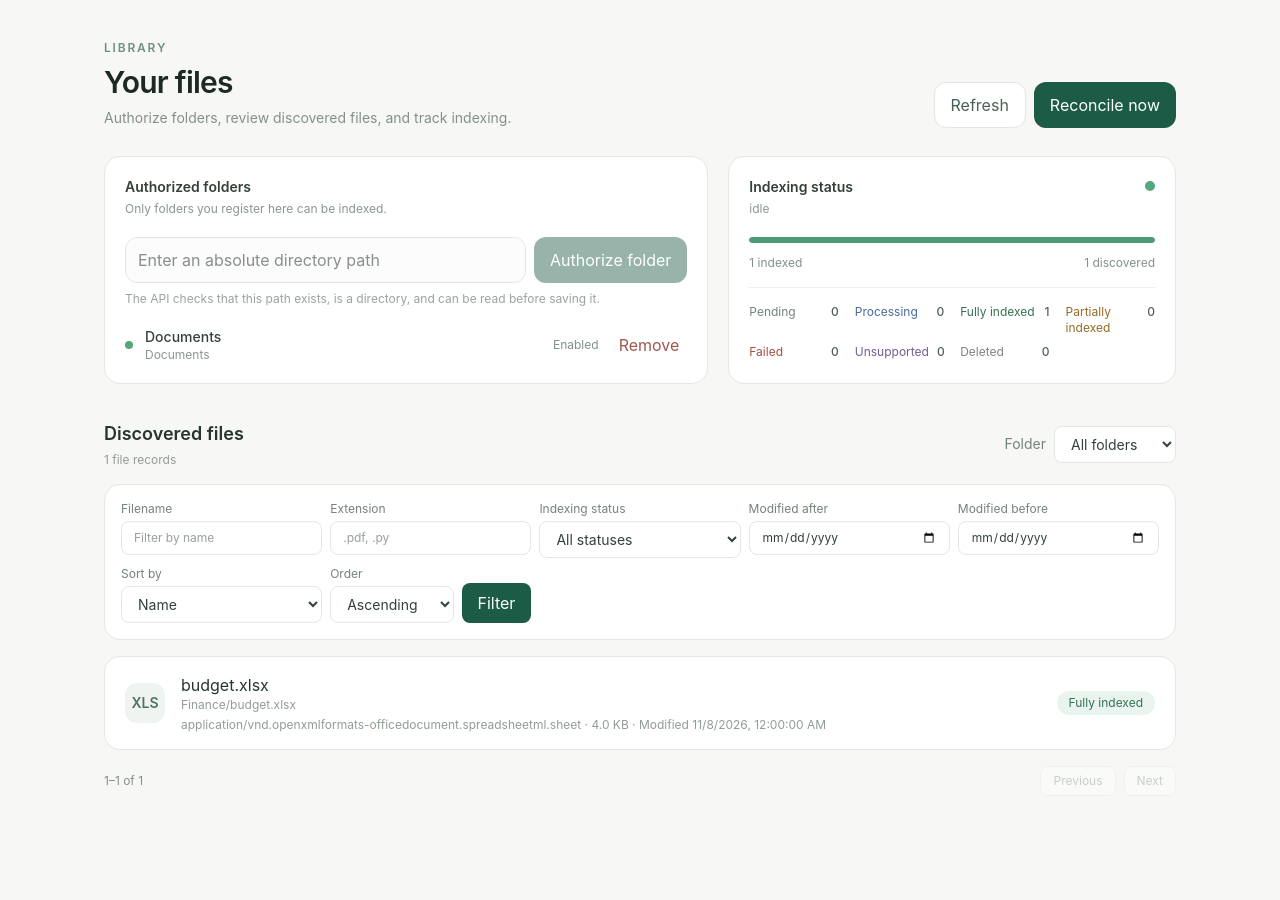
it: FilesPage › filters through the server and opens details by file ID
Expected: the button "budget.xlsx" is shown, 181,673 -> 269,697
Type "budget" into the field labelled "Filename".
click(222, 538); type("budget")  # box 121,521 -> 322,555
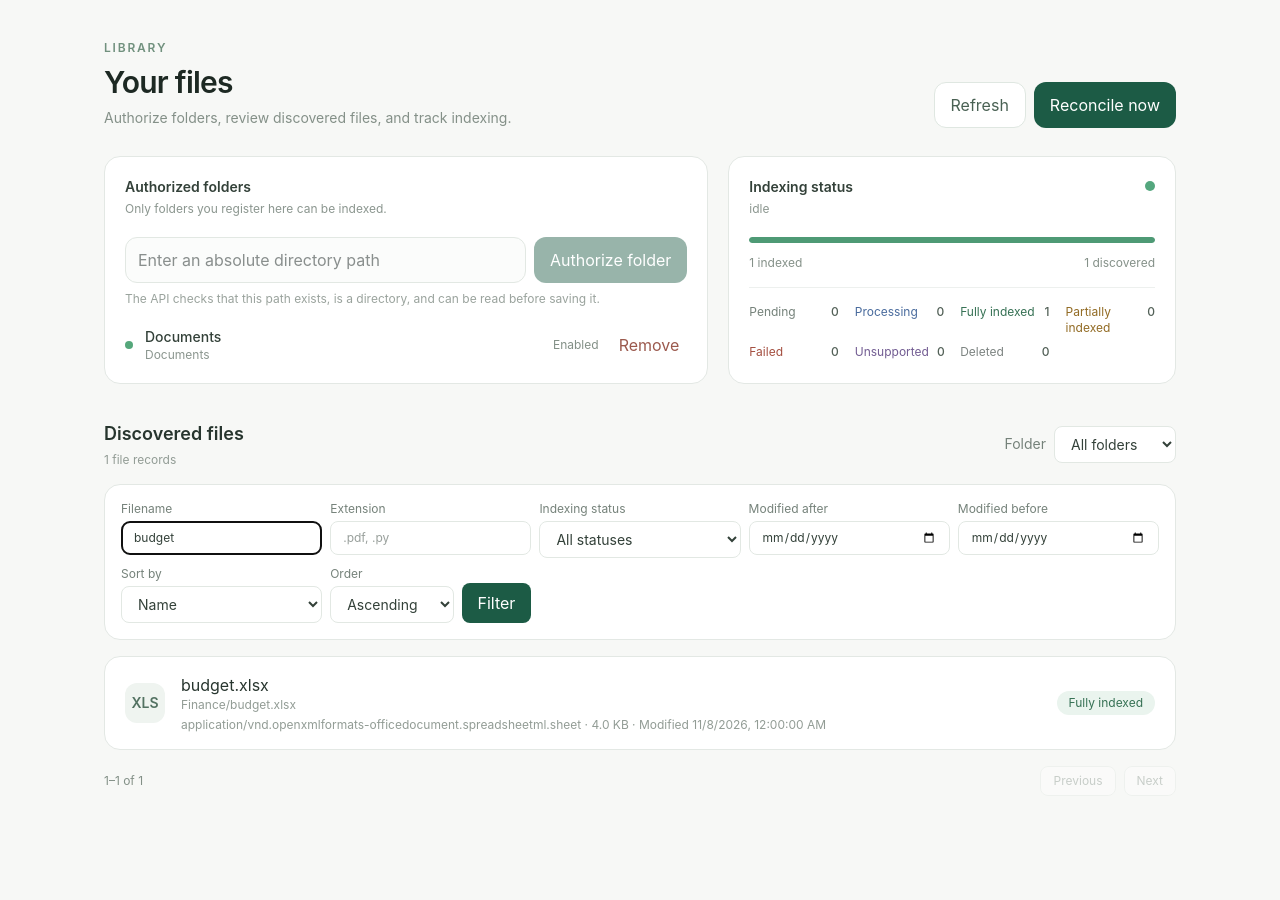
Click the button "Filter".
click(496, 603)  # box 462,583 -> 531,623
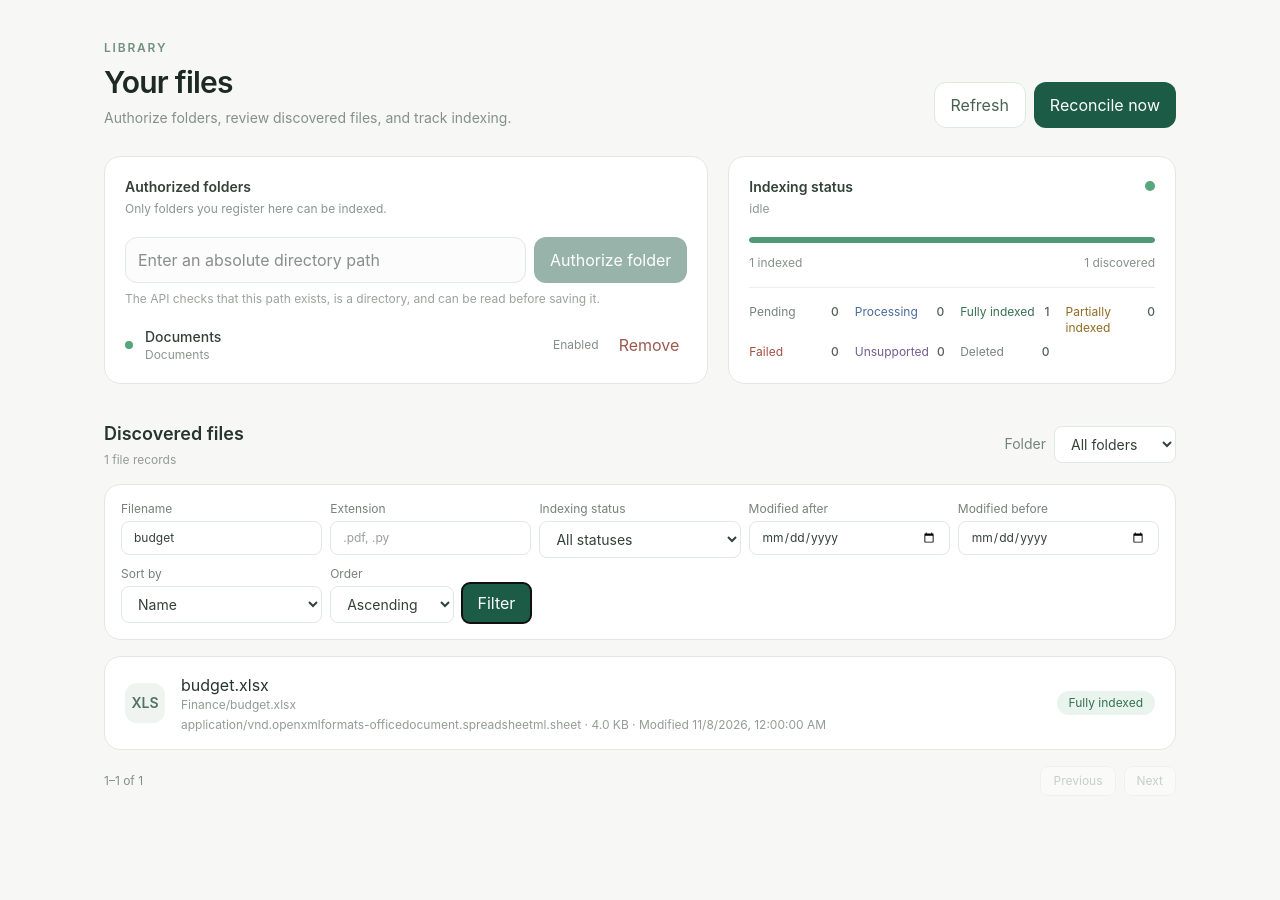
Click the button "budget.xlsx".
click(225, 685)  # box 181,673 -> 269,697
(page scrolled)
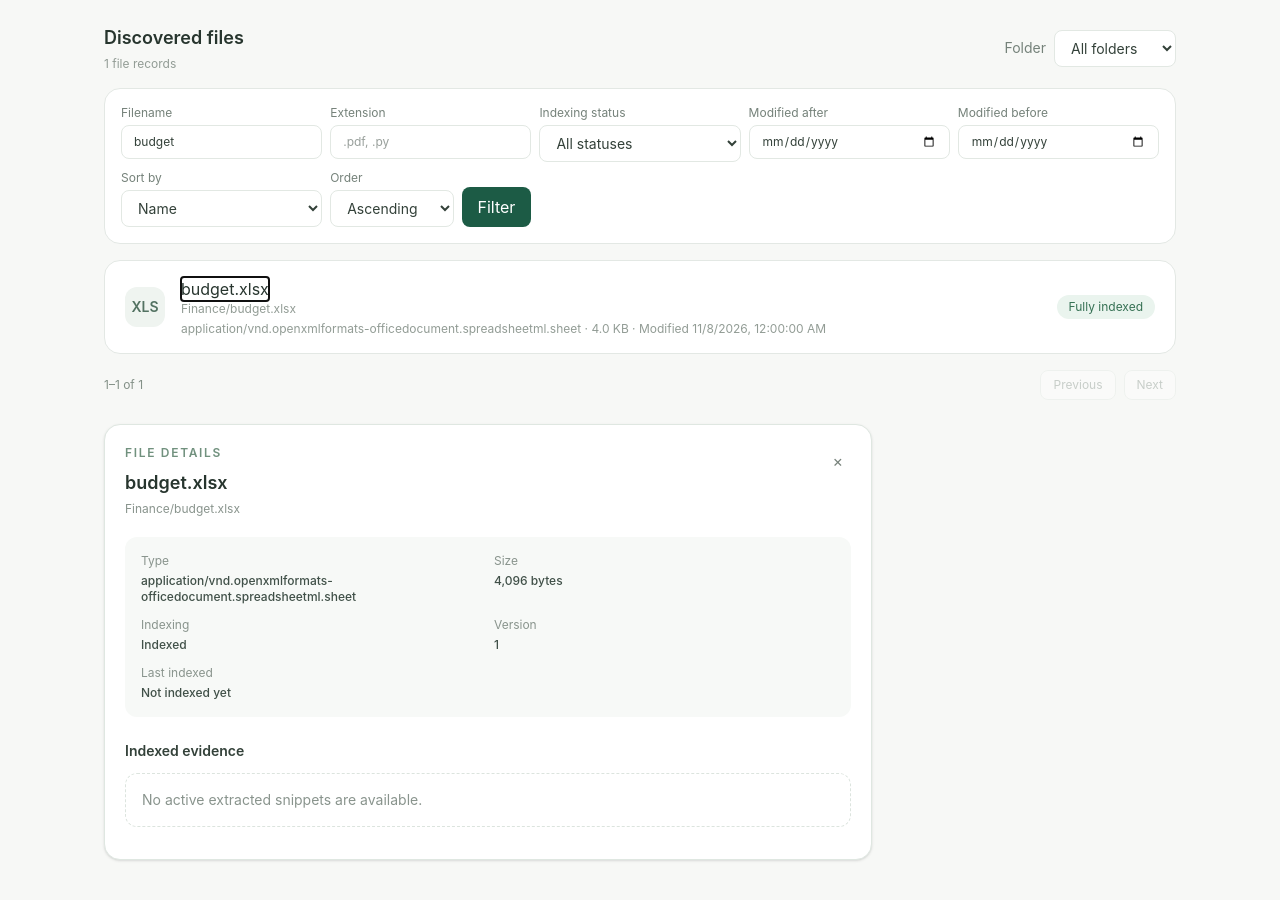
Result: the element "File details" is shown at 104,424 -> 872,860
